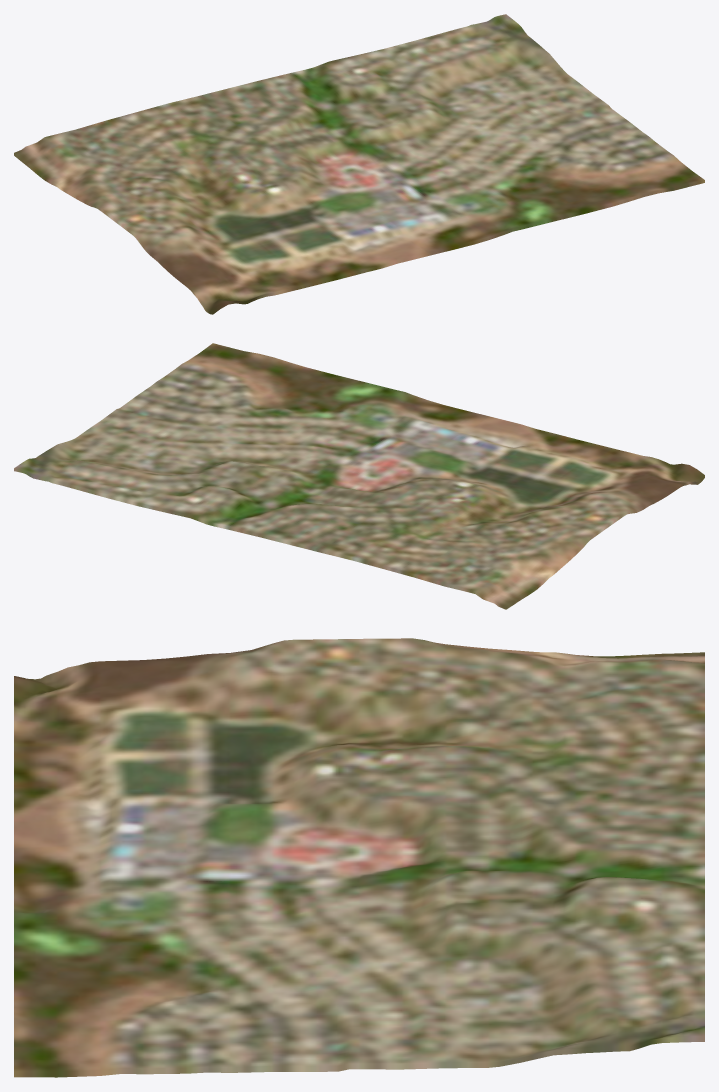
File: terrain_r5_c4_lod1.glb
3 renders of one model, top to bottom at view 1: azimuth 30°, elevation 25°; view 2: azimuth 150°, elevation 25°; view 3: azimuth 270°, elevation 25°, orthographic. The views are drawn at different scales.
Parts seen in each view (by area): view 1: terrain_r5_c4_lod1; view 2: terrain_r5_c4_lod1; view 3: terrain_r5_c4_lod1.
Boxes of the visible parts, x1,y1,x2,y2 form: terrain_r5_c4_lod1: (14, 14, 704, 314); terrain_r5_c4_lod1: (14, 343, 704, 609); terrain_r5_c4_lod1: (14, 638, 704, 1077).
Size of the model in its own units: 1125 by 81.03 by 787.
1 material, 1 textured.
